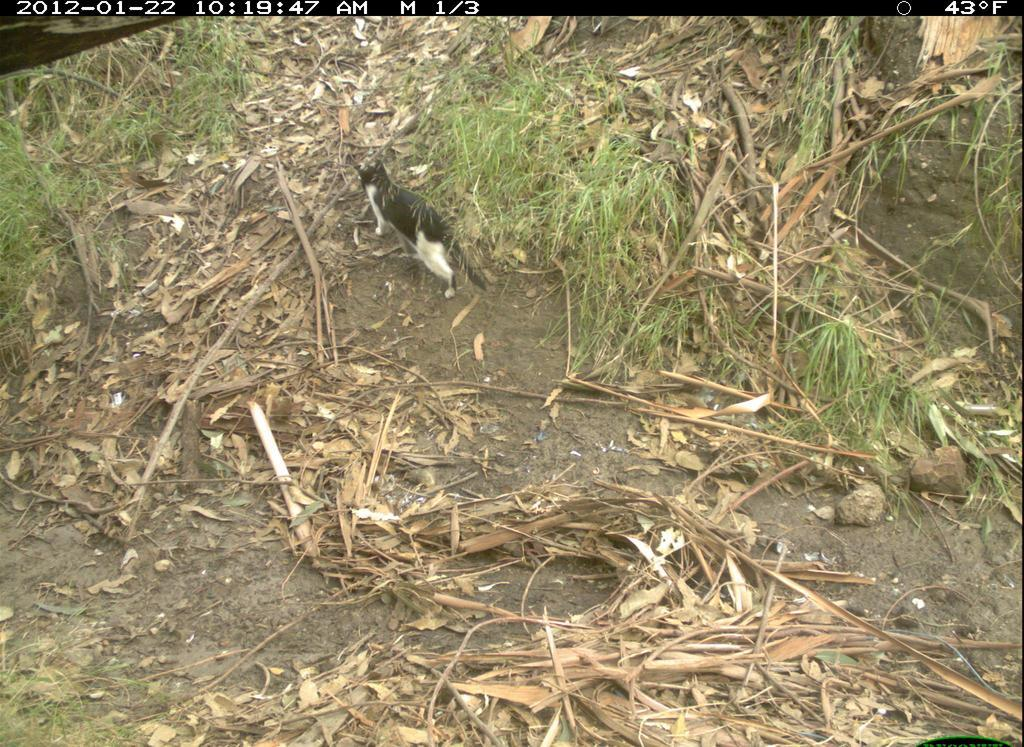cat: (352, 159, 491, 305)
